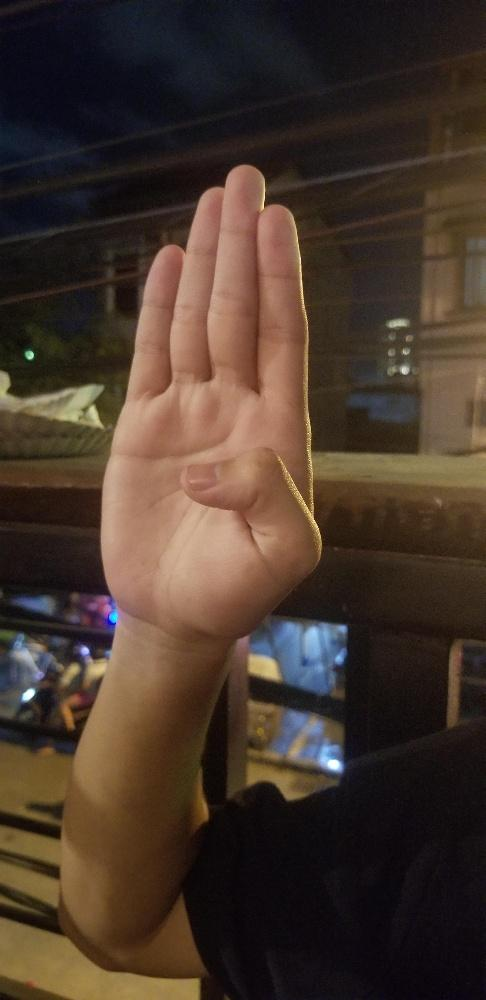b: (95, 159, 326, 642)
